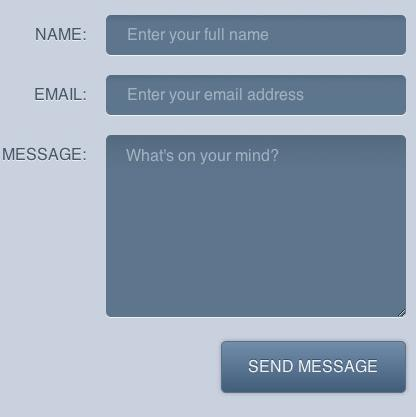button: (219, 341, 408, 395)
field: (103, 133, 409, 319), (104, 73, 406, 119), (104, 14, 409, 57)
field_with_label: (1, 131, 411, 320), (33, 71, 411, 120), (34, 12, 412, 59)
